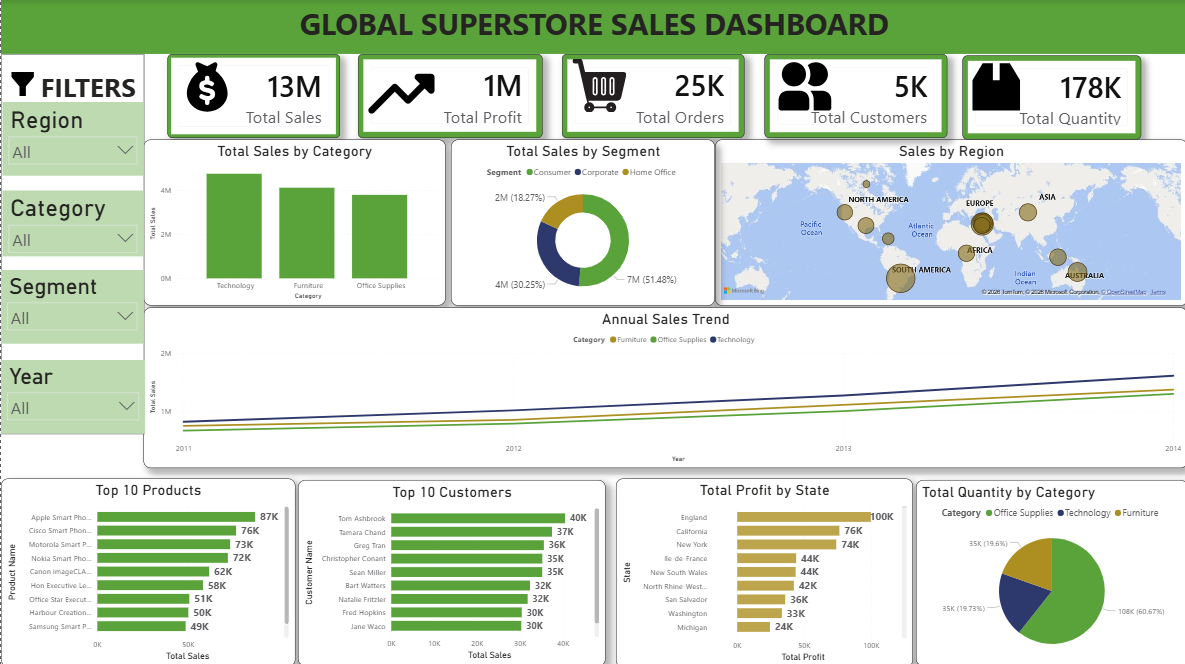

The dashboard page shown, as its layout file describes it:
{"tool":"powerbi","page":{"name":"Global_Superstore_sales","canvas":[1920,1080],"ordinal":0},"visuals":[{"type":"cardVisual","fields":{"Data":["Global Superstore.Total Sales"]},"box":[269.6,87.4,279.3,136],"z":0},{"type":"cardVisual","fields":{"Data":["Global Superstore.Total Profit"]},"box":[579,87.5,298.6,135.7],"z":1000},{"type":"cardVisual","fields":{"Data":["Global Superstore.Total Orders"]},"box":[907.7,87.5,295.5,135.7],"z":2000},{"type":"cardVisual","fields":{"Data":["Global Superstore.Total Quantity"]},"box":[1556.1,90.5,289.5,135.7],"z":3000},{"type":"clusteredColumnChart","fields":{"Category":["Global Superstore.Category"],"Y":["Global Superstore.Total Sales"]},"box":[231.7,225.9,489.1,268.8],"z":4000},{"type":"map","title":"Sales by Region","fields":{"Category":["Global Superstore.Region"],"Size":["Global Superstore.Total Sales"]},"box":[1156.1,225.9,765.1,269.6],"z":5000},{"type":"donutChart","fields":{"Category":["Global Superstore.Segment"],"Y":["Global Superstore.Total Sales"]},"box":[728.7,225.9,427.5,269.6],"z":6000},{"type":"lineChart","title":"Annual Sales Trend ","fields":{"Category":["Global Superstore.Year"],"Y":["Global Superstore.Total Sales"],"Series":["Global Superstore.Category"]},"box":[230.7,497.9,1690.5,259.9],"z":7000},{"type":"clusteredBarChart","fields":{"Category":["Global Superstore.State"],"Y":["Global Superstore.Total Profit"]},"box":[995.8,774.8,480.9,306],"z":8000},{"type":"pieChart","fields":{"Category":["Global Superstore.Category"],"Y":["Global Superstore.Total Quantity"]},"box":[1480.7,778.1,440.3,301.6],"z":9000},{"type":"clusteredBarChart","title":"Top 10 Products","fields":{"Category":["Global Superstore.Product Name"],"Y":["Global Superstore.Total Sales"]},"box":[0,775,476.5,304.6],"z":10000},{"type":"clusteredBarChart","title":"Top 10 Customers","fields":{"Category":["Global Superstore.Customer Name"],"Y":["Global Superstore.Total Sales"]},"box":[480.9,777.2,497.9,301.2],"z":11000},{"type":"textbox","box":[0,0,1921,87.5],"z":12000},{"type":"textbox","box":[0,87.5,232.2,615.2],"z":13000},{"type":"slicer","fields":{"Values":["Global Superstore.Region"]},"box":[2.4,165.2,228.3,119],"z":14000},{"type":"slicer","fields":{"Values":["Global Superstore.Category"]},"box":[2.4,308.5,228.3,106.9],"z":15000},{"type":"slicer","fields":{"Values":["Global Superstore.Segment"]},"box":[0,437.2,230.7,119],"z":16000},{"type":"slicer","fields":{"Values":["Global Superstore.Year"]},"box":[0,582.9,233.2,119],"z":17000},{"type":"image","box":[286.6,97.2,94.7,87.4],"z":18000},{"type":"cardVisual","fields":{"Data":["Global Superstore.Total Customers"]},"box":[1236.3,87.4,296.3,136],"z":19000},{"type":"image","box":[578.1,87.4,140.9,128.7],"z":20000},{"type":"image","box":[920.5,94.7,97.2,87.4],"z":21000},{"type":"image","box":[1255.7,97.2,92.3,85],"z":22000},{"type":"image","box":[1556.9,97.2,109.3,87.4],"z":23000},{"type":"image","box":[2.4,114.2,65.6,41.3],"z":24000}]}

Visuals, with their boxes in screenshot pixels (x1, y1, x2, y2), scaled from the page's 1920x1080 canvas onto the 1185x664 screenshot:
cardVisual - Global Superstore.Total Sales: x1=166 y1=54 x2=339 y2=137
cardVisual - Global Superstore.Total Profit: x1=357 y1=54 x2=542 y2=137
cardVisual - Global Superstore.Total Orders: x1=560 y1=54 x2=743 y2=137
cardVisual - Global Superstore.Total Quantity: x1=960 y1=56 x2=1139 y2=139
clusteredColumnChart - Global Superstore.Category x Global Superstore.Total Sales: x1=143 y1=139 x2=445 y2=304
"Sales by Region" map: x1=714 y1=139 x2=1184 y2=305
donutChart - Global Superstore.Segment x Global Superstore.Total Sales: x1=450 y1=139 x2=714 y2=305
"Annual Sales Trend " lineChart: x1=142 y1=306 x2=1184 y2=466
clusteredBarChart - Global Superstore.State x Global Superstore.Total Profit: x1=615 y1=476 x2=911 y2=663
pieChart - Global Superstore.Category x Global Superstore.Total Quantity: x1=914 y1=478 x2=1184 y2=663
"Top 10 Products" clusteredBarChart: x1=0 y1=476 x2=294 y2=663
"Top 10 Customers" clusteredBarChart: x1=297 y1=478 x2=604 y2=663
textbox: x1=0 y1=0 x2=1184 y2=54
textbox: x1=0 y1=54 x2=143 y2=432
slicer - Global Superstore.Region: x1=1 y1=102 x2=142 y2=175
slicer - Global Superstore.Category: x1=1 y1=190 x2=142 y2=255
slicer - Global Superstore.Segment: x1=0 y1=269 x2=142 y2=342
slicer - Global Superstore.Year: x1=0 y1=358 x2=144 y2=432
image: x1=177 y1=60 x2=235 y2=113
cardVisual - Global Superstore.Total Customers: x1=763 y1=54 x2=946 y2=137
image: x1=357 y1=54 x2=444 y2=133
image: x1=568 y1=58 x2=628 y2=112
image: x1=775 y1=60 x2=832 y2=112
image: x1=961 y1=60 x2=1028 y2=113
image: x1=1 y1=70 x2=42 y2=96
